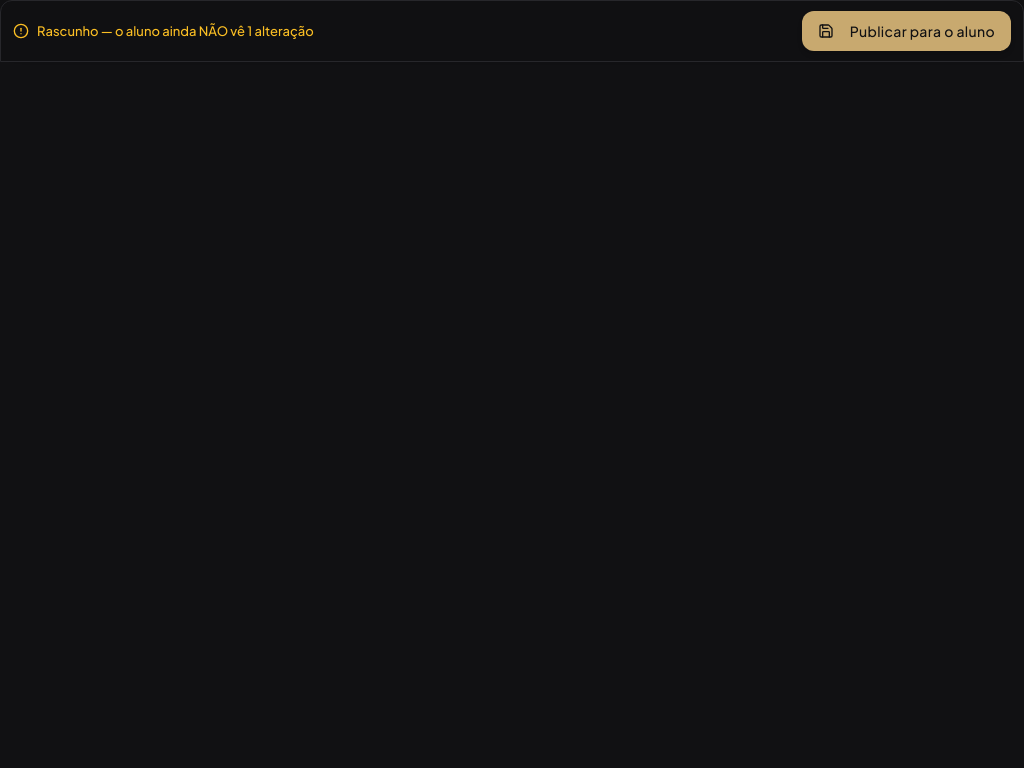
Test case: PublishBar › rascunho: status único, lista do que falta e descartar
Later steps or results of the test are not shown.
Click the button titled "Ver o que o aluno ainda não vê" at [163, 31], box [13,23,314,39]
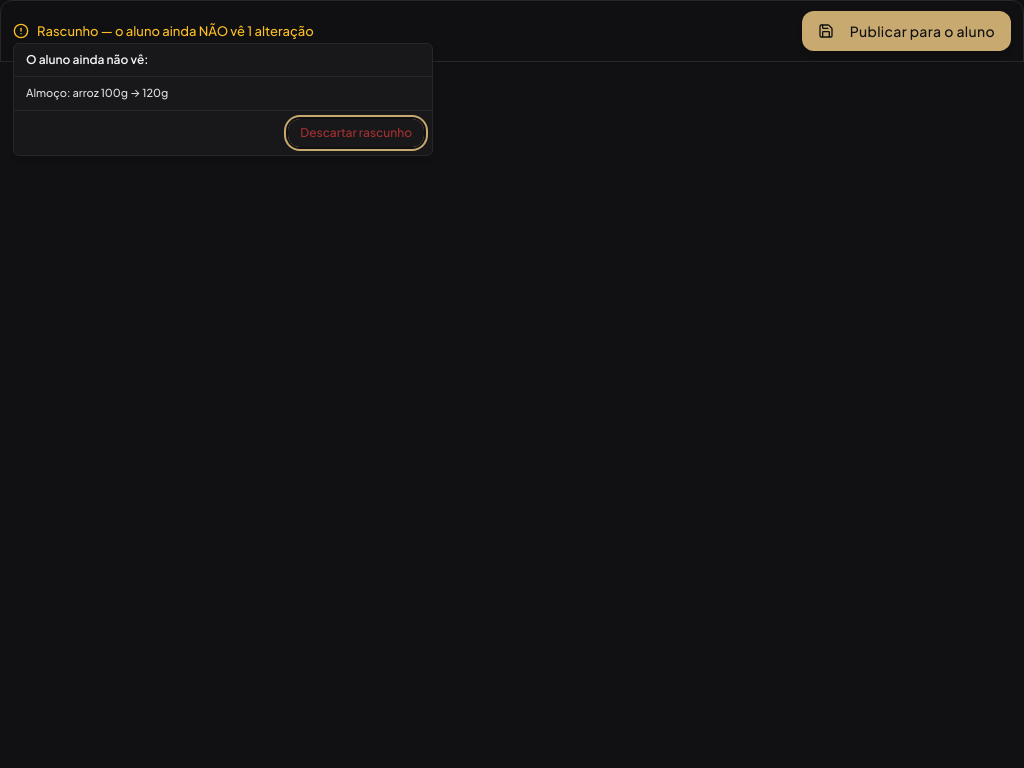
Now the text "Almoço: arroz 100g → 120g" is shown, box [26,86,168,99]
